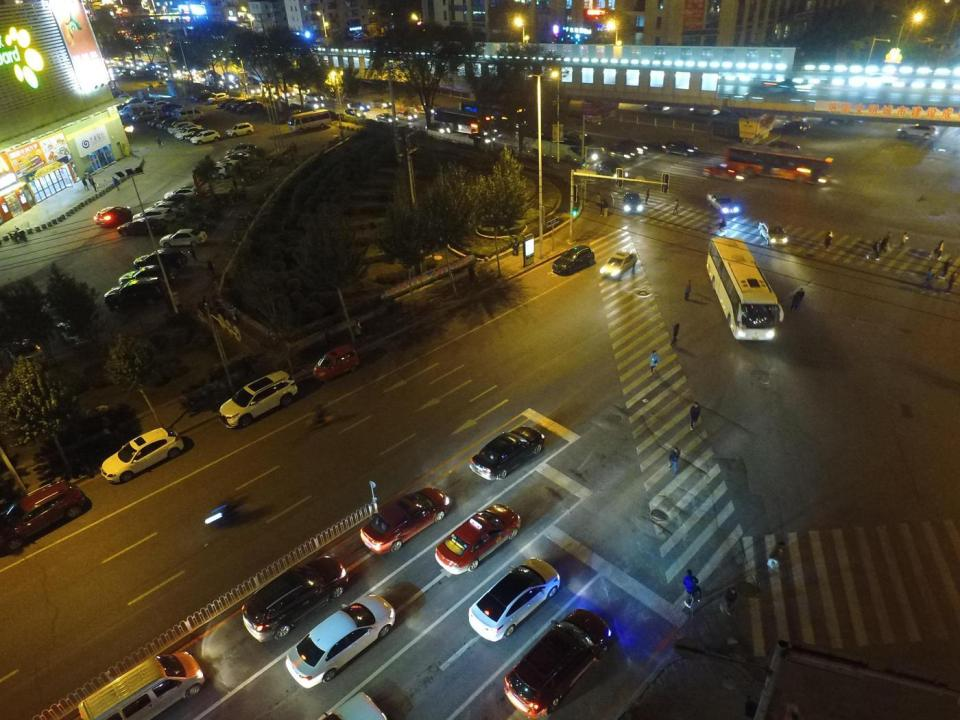bus: (706, 233, 784, 342), (721, 144, 838, 190), (517, 127, 595, 164), (434, 103, 487, 136), (287, 108, 334, 132)
car: (505, 607, 614, 720), (288, 592, 398, 685), (241, 553, 350, 639), (467, 556, 562, 637), (434, 503, 526, 576), (357, 486, 451, 551), (0, 481, 89, 548), (212, 368, 299, 428), (100, 425, 185, 485), (469, 425, 547, 479), (304, 346, 363, 381), (100, 279, 169, 307), (552, 244, 595, 275), (599, 249, 640, 280), (120, 266, 180, 286), (702, 161, 748, 185), (756, 219, 791, 250), (704, 189, 744, 216), (130, 250, 189, 268), (158, 228, 208, 248), (118, 219, 166, 238), (896, 121, 941, 141), (91, 206, 133, 226), (597, 160, 629, 184), (658, 141, 700, 159), (686, 102, 733, 118), (781, 118, 816, 138), (604, 141, 634, 163), (165, 186, 202, 203), (136, 209, 175, 225), (144, 204, 177, 222), (768, 138, 802, 155), (620, 192, 646, 214), (161, 194, 194, 211), (620, 137, 648, 156), (152, 201, 184, 216), (205, 162, 231, 180), (424, 122, 453, 138), (227, 122, 255, 138), (642, 100, 674, 114), (224, 143, 261, 155), (173, 125, 203, 138), (279, 108, 306, 122), (168, 119, 194, 133), (150, 116, 178, 129), (230, 97, 258, 110), (191, 131, 221, 143), (469, 131, 494, 145), (346, 98, 370, 112), (187, 130, 217, 141), (377, 111, 399, 126), (239, 101, 264, 114), (132, 109, 158, 121), (192, 89, 216, 102), (302, 97, 326, 110), (227, 151, 255, 162), (157, 117, 181, 129), (370, 98, 394, 110), (176, 128, 202, 139), (206, 92, 232, 103), (344, 106, 367, 118), (148, 100, 173, 111), (215, 158, 239, 169), (396, 110, 418, 122), (146, 115, 172, 125), (224, 98, 250, 108), (225, 155, 251, 165), (412, 103, 436, 113), (242, 83, 261, 95), (305, 90, 324, 102), (492, 125, 511, 137), (122, 107, 143, 117), (261, 80, 277, 93), (267, 89, 285, 100), (280, 85, 296, 97), (218, 98, 239, 106), (166, 105, 184, 114), (142, 96, 158, 106), (164, 104, 179, 111)
van: (69, 644, 207, 720), (127, 102, 161, 117), (174, 107, 205, 120), (116, 105, 140, 114), (293, 84, 310, 95)
